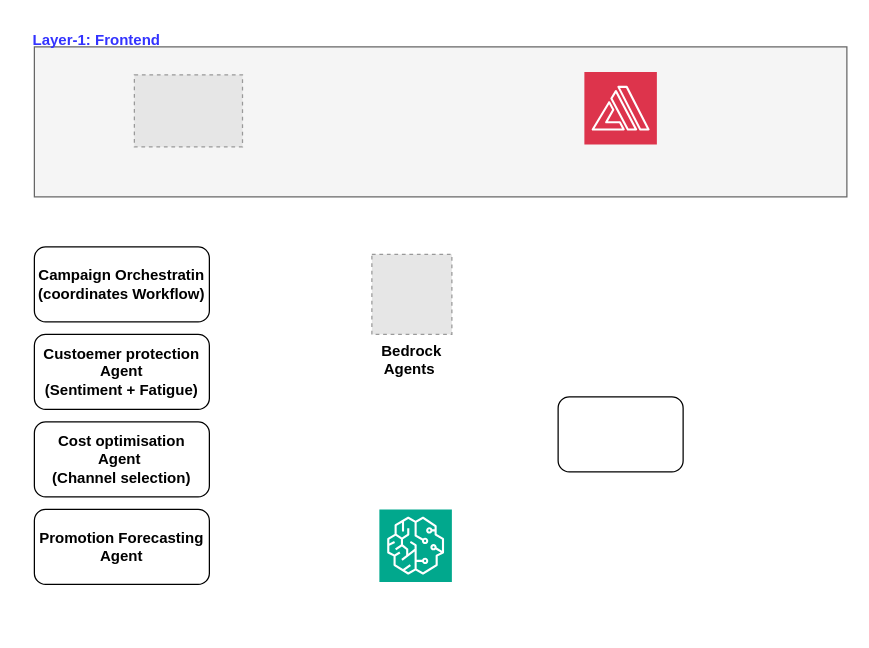
This 869x648 diagram has some shape labels left out. Grey dashed boxes stand in for pictures. The shapes that lost their labels are listed below. From the top down, each one's box as (x1, y1, x2, y2) in pixels, then its label:
(583, 71, 657, 144): Amplify
(557, 396, 683, 472): RAG Knowledge base
(378, 508, 452, 582): Sagemaker DeepAR
